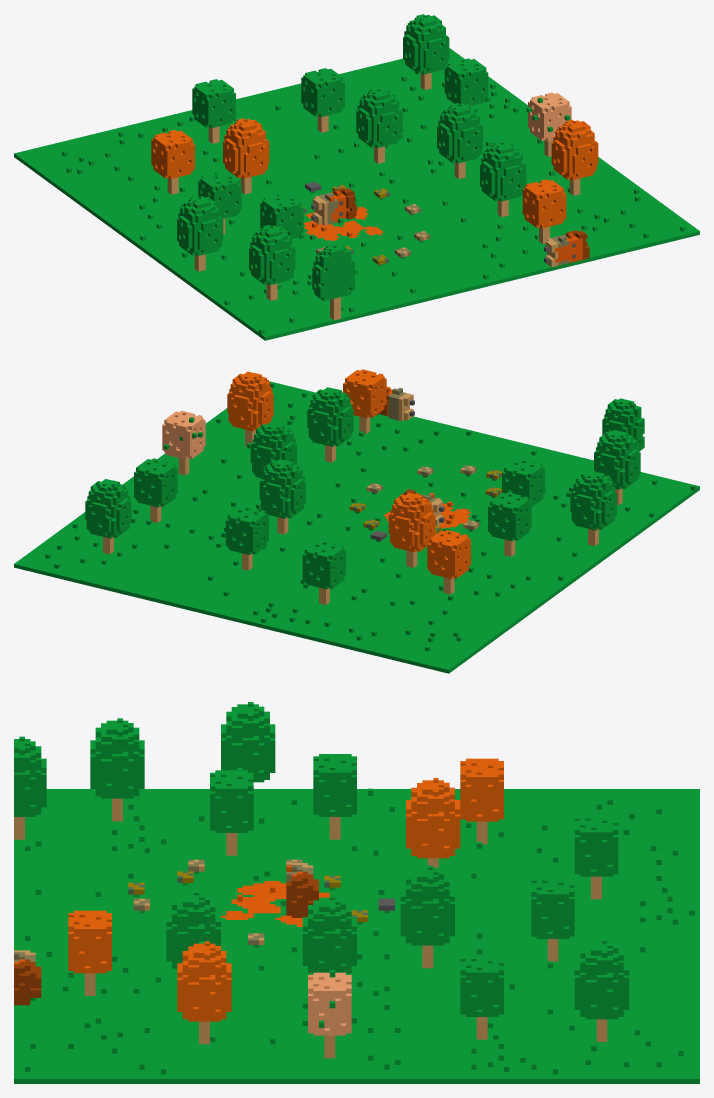
File: scene_fall.obj
3 views of the same model, one above another, from view 1: azimuth 30°, elevation 25°; view 2: azimuth 150°, elevation 25°; view 3: azimuth 270°, elevation 25° (orthographic). The views are drawn at different scales.
Size of the model in its own units: 126 by 20 by 126.
